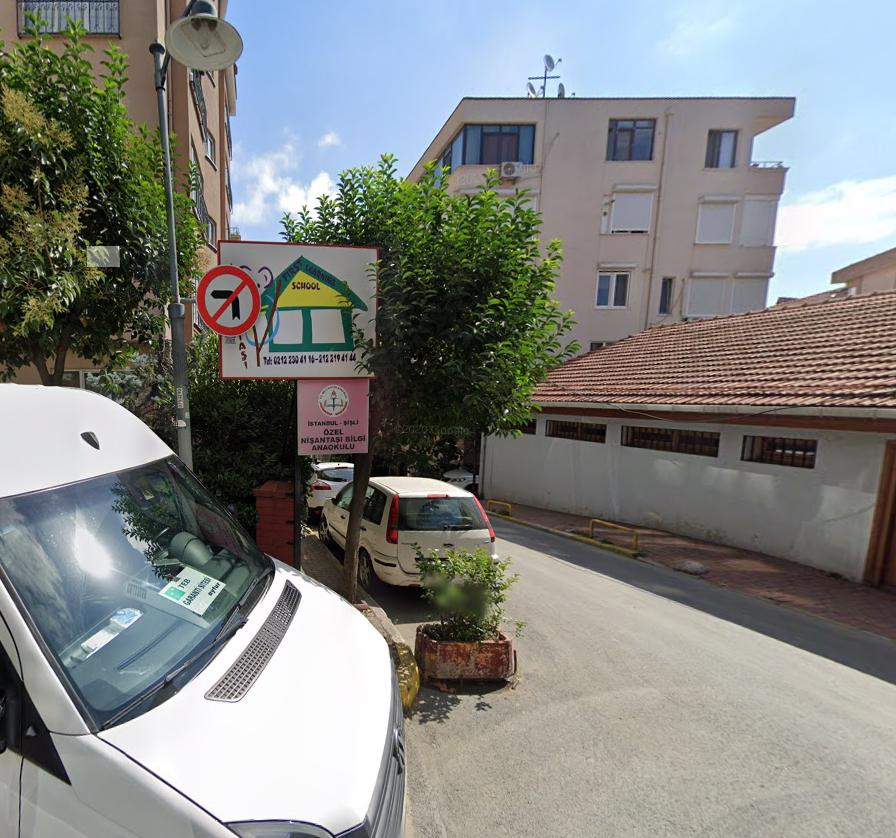leftturnsareforbidden: (195, 266, 258, 333)
